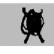not correct: (19, 6, 47, 44)
